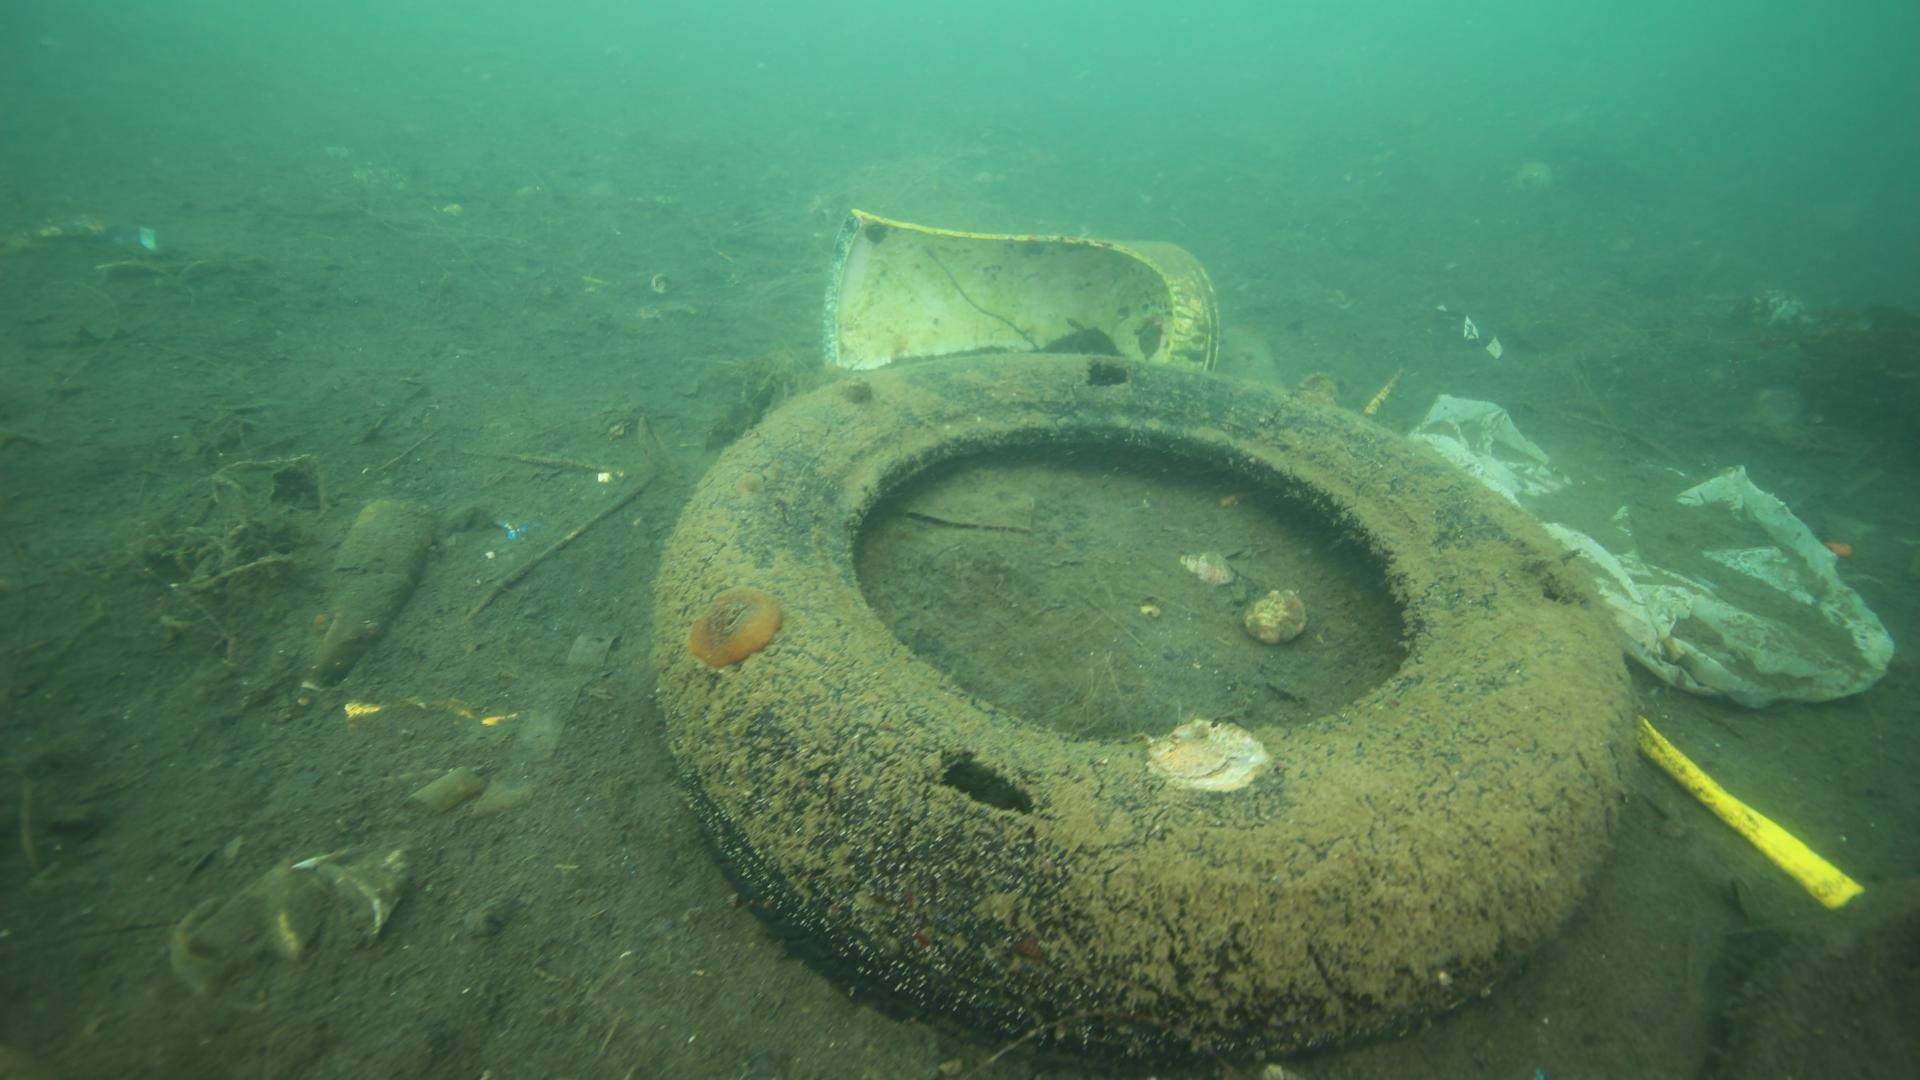tire: (641, 347, 1644, 1050)
